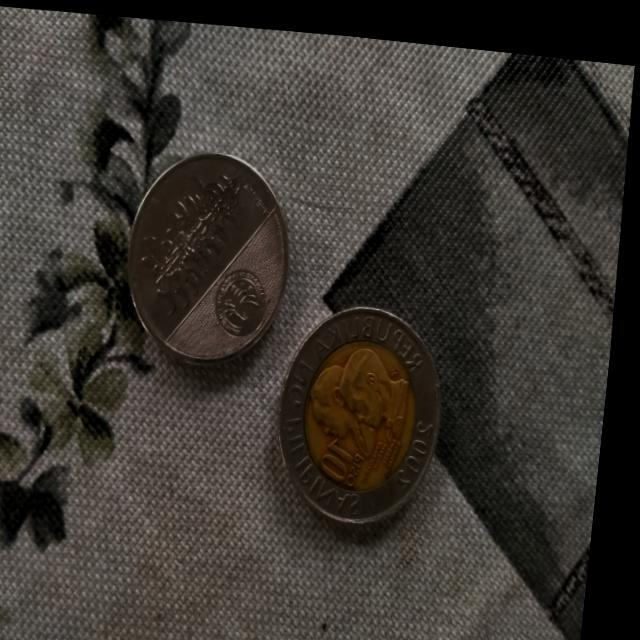10_Old_Front: (310, 408, 390, 485)
5_New_Back: (141, 153, 255, 316)
